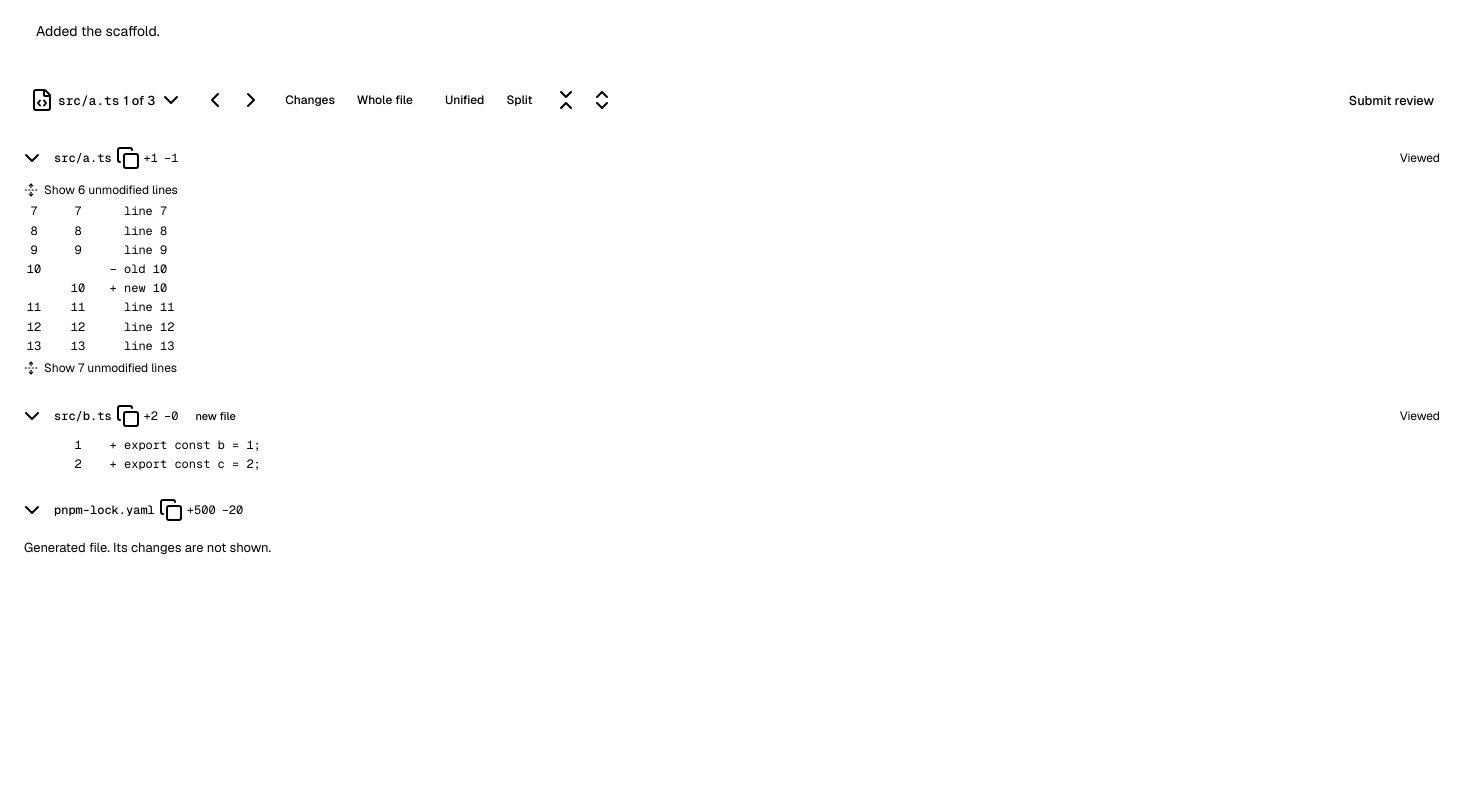
Test: the toolbar counts the comments drafted so far
The width and height of the screenshot is (1464, 810).
Expected: the text "drafted" is not shown
Click the button named "Select line 9" at (78, 250), box [56,242,100,258]
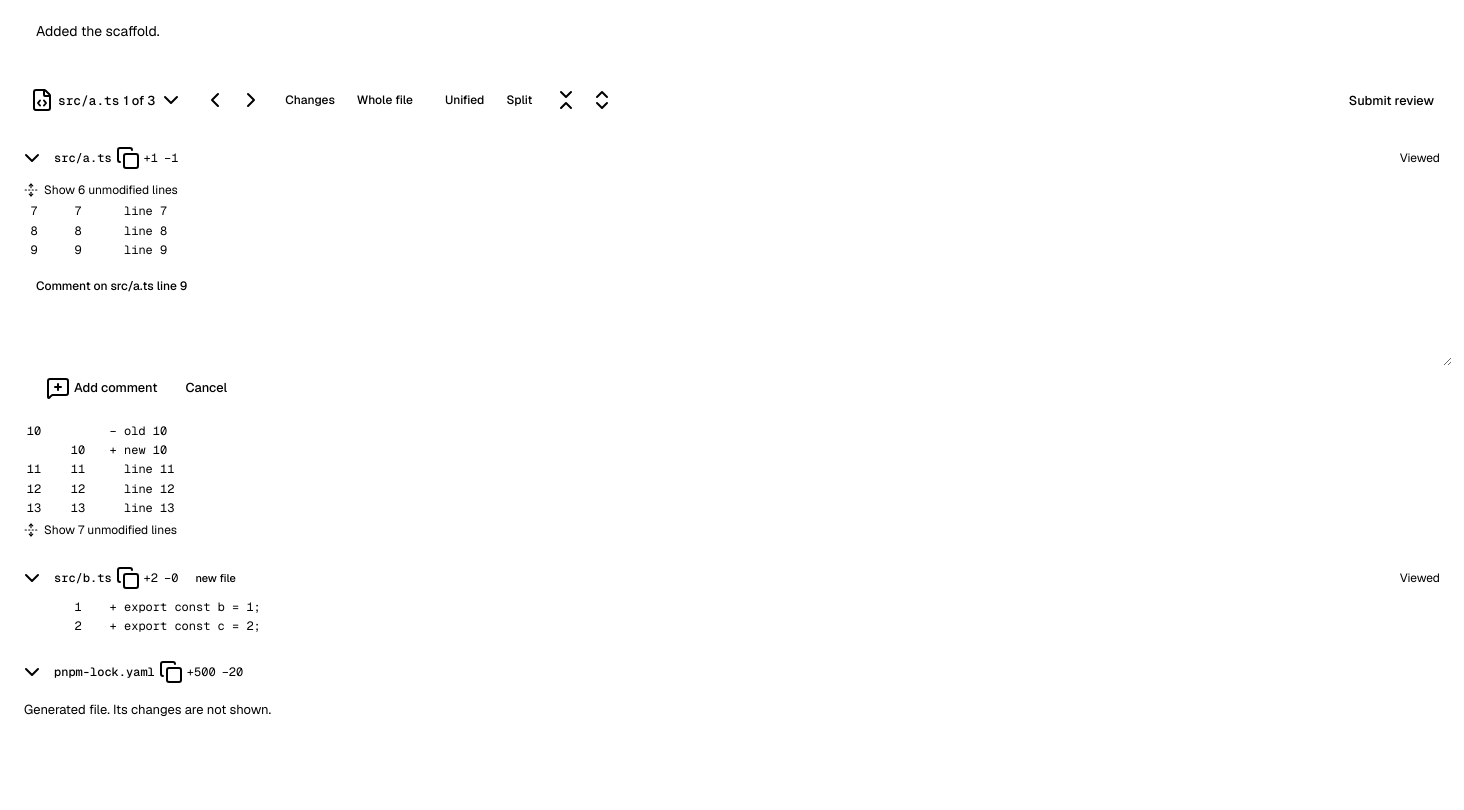
Type "One." into the text box labelled "Comment on src/a.ts line 9" at (744, 334), box [36,302,1452,366]
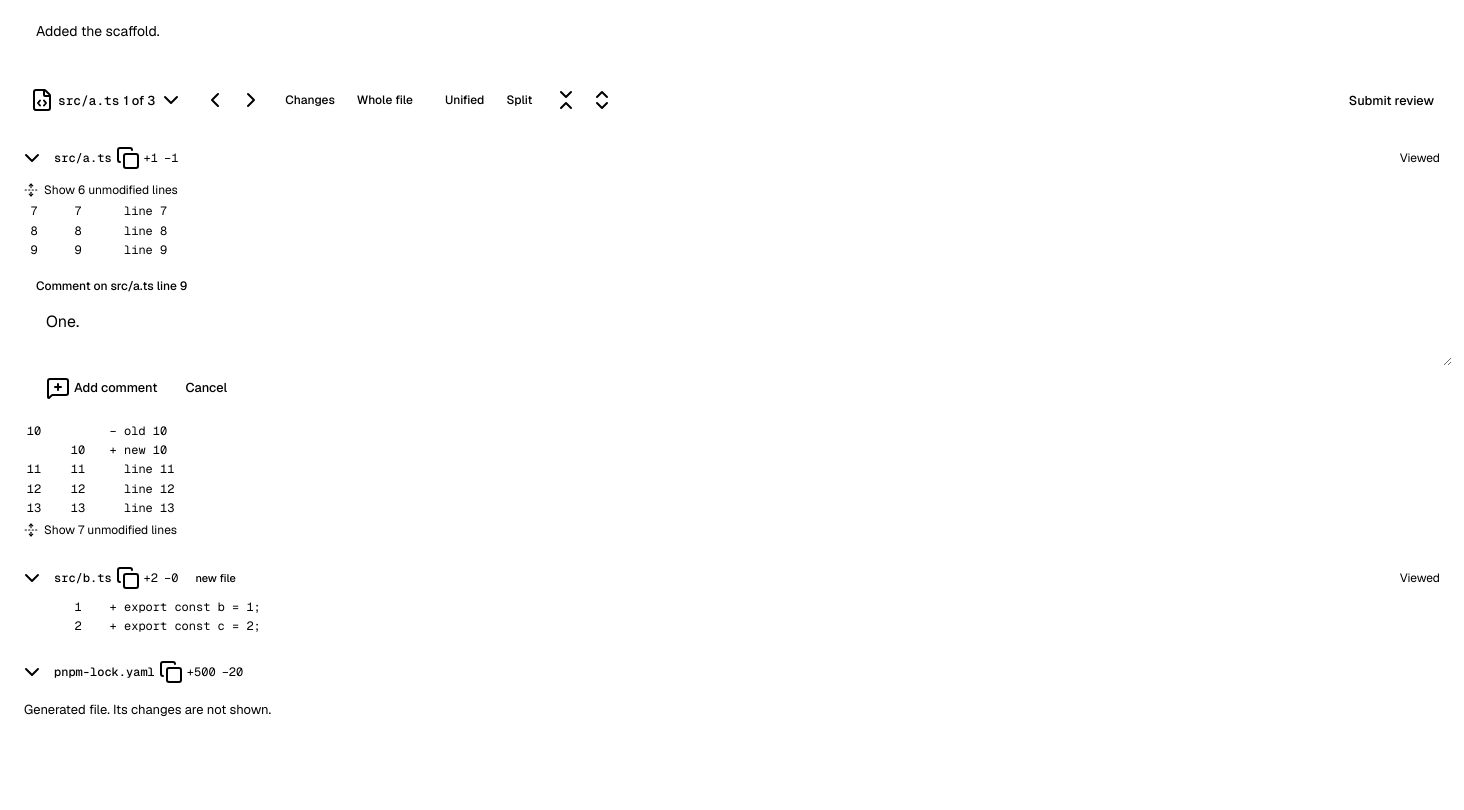
Click the button "Add comment" at (102, 388), box [36,374,167,402]
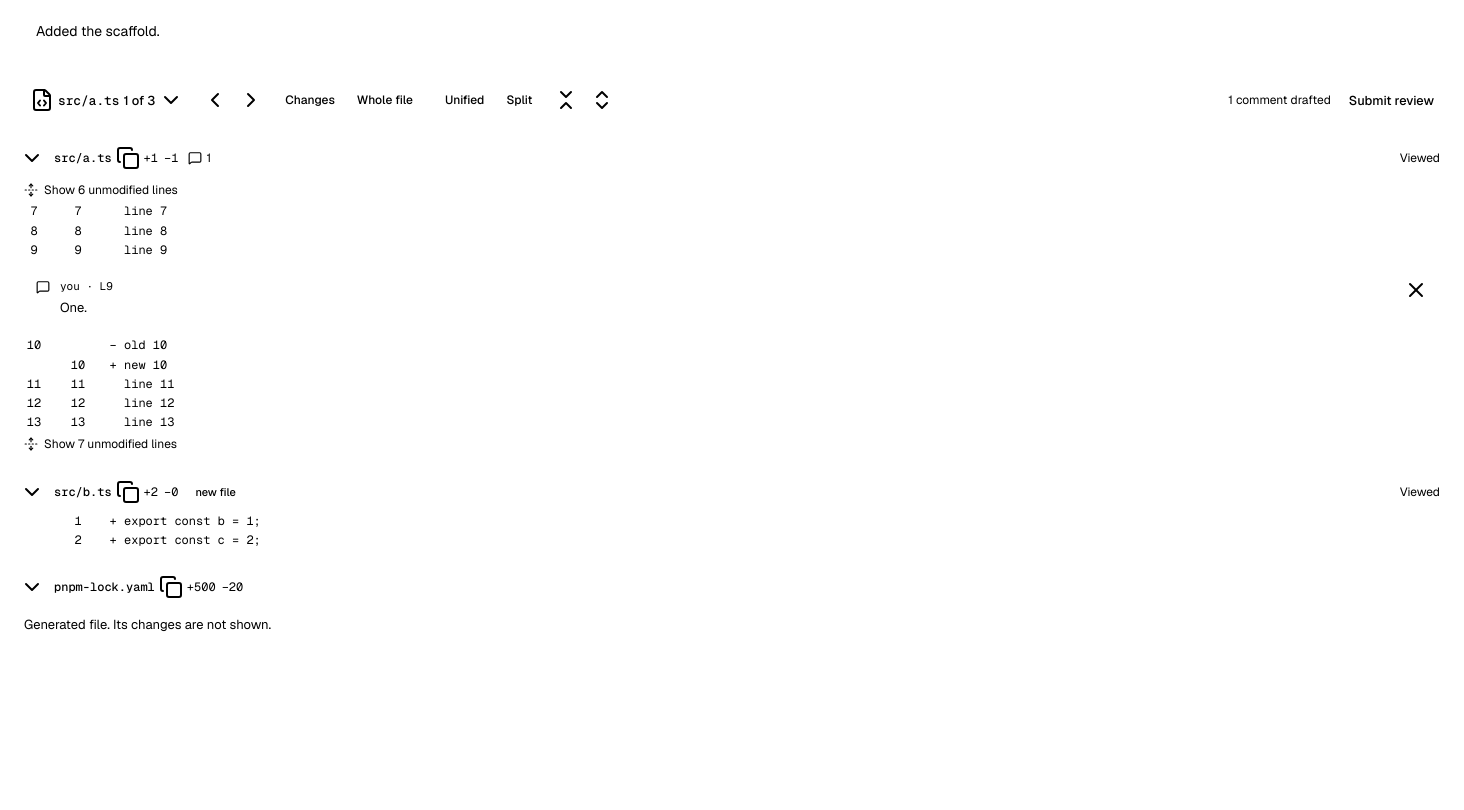
Expected: the text "1 comment drafted" is shown, [1228,92,1331,108]
